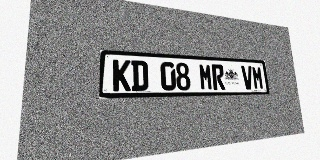0: (160, 62, 176, 91)
8: (175, 62, 191, 90)
D: (131, 60, 148, 91)
K: (113, 59, 131, 91)
M: (198, 63, 213, 90), (251, 66, 264, 89)
R: (211, 64, 225, 90)
V: (241, 65, 254, 90)
